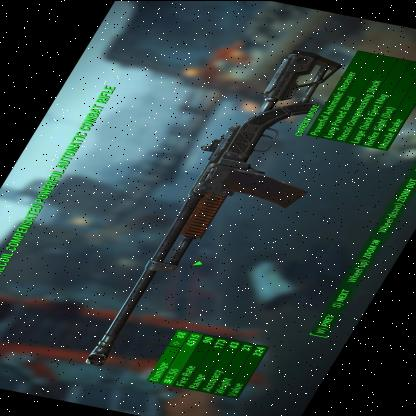rifle: (61, 45, 375, 389)
